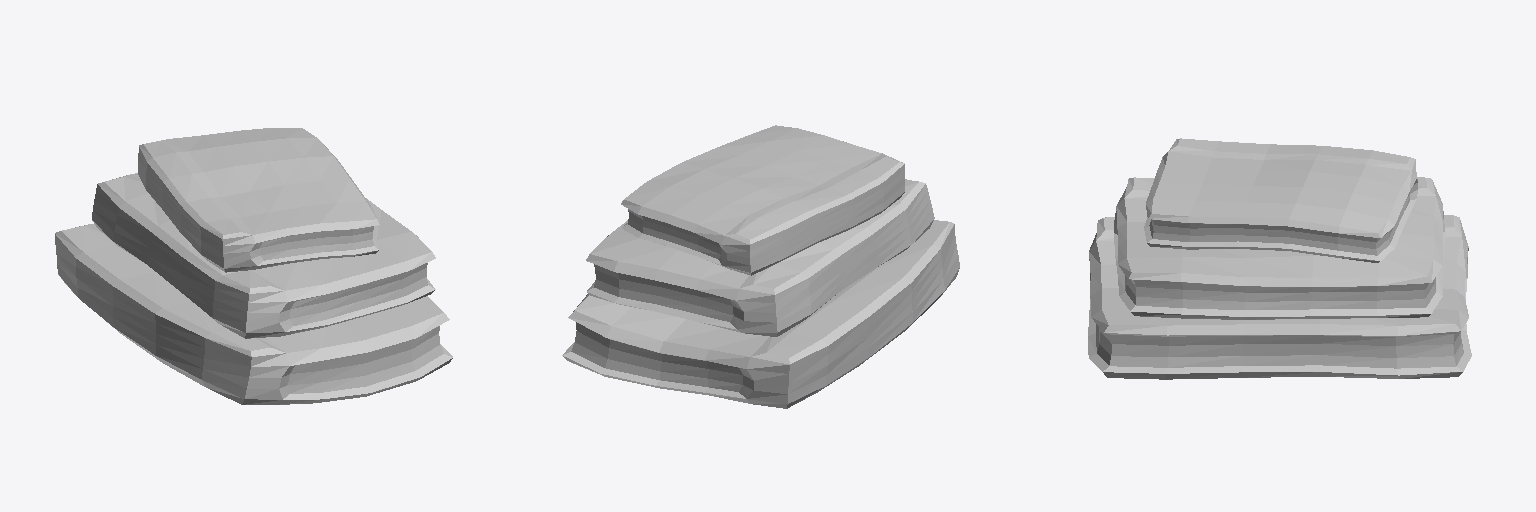
The model's file is BOOKSjjjjjjjjjjjjjjjjj.OBJ.
3 renders of one model, left to right at view 1: azimuth 30°, elevation 25°; view 2: azimuth 150°, elevation 25°; view 3: azimuth 270°, elevation 25°, orthographic.
Visible parts, largest first — view 1: Group2; view 2: Group2; view 3: Group2.
Boxes of the visible parts, x1,y1,x2,y2 form: Group2: [55, 128, 452, 404]; Group2: [562, 125, 959, 408]; Group2: [1088, 138, 1471, 379].
Bounding box in the file's own units: 1.06 × 0.6613 × 1.43.